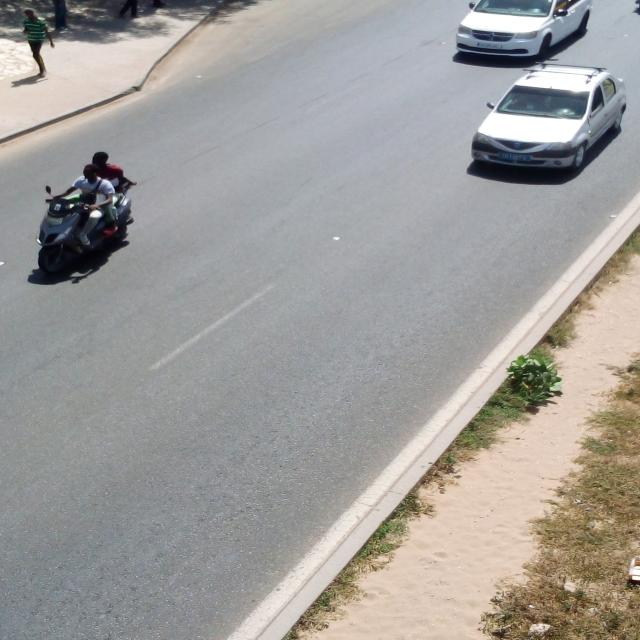moto: (38, 191, 134, 275)
particulier: (473, 65, 628, 170), (458, 1, 593, 57)
